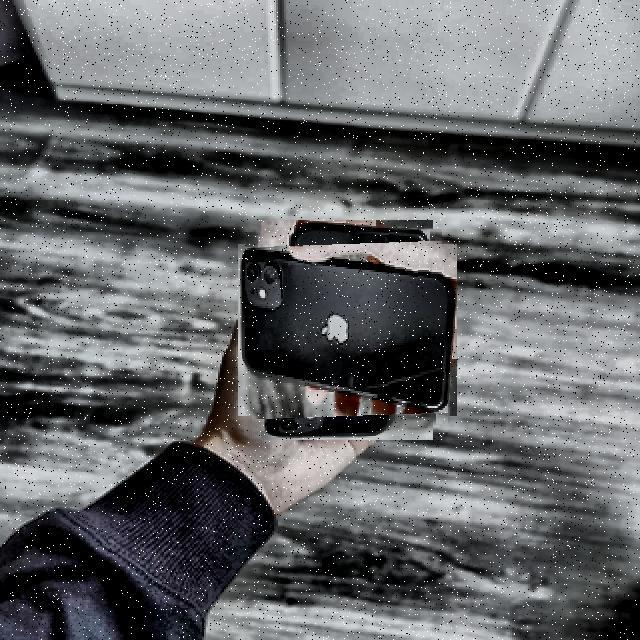Phone: (248, 231, 447, 430)
